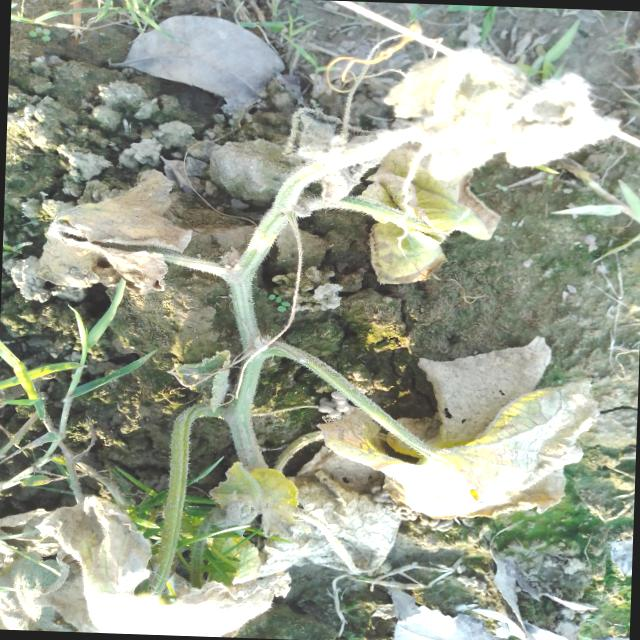cucumber_bacterial: (326, 9, 622, 228), (332, 312, 609, 531), (0, 483, 275, 637), (14, 139, 202, 326), (224, 439, 400, 614)
